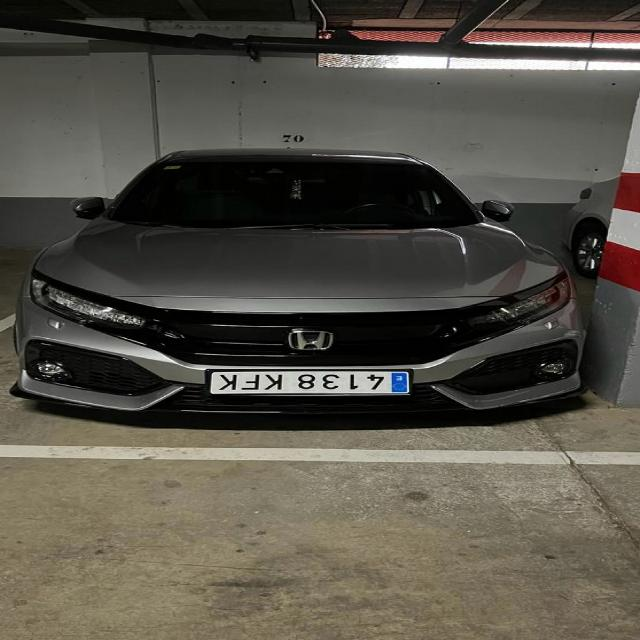License-Plate: (208, 368, 410, 396)
